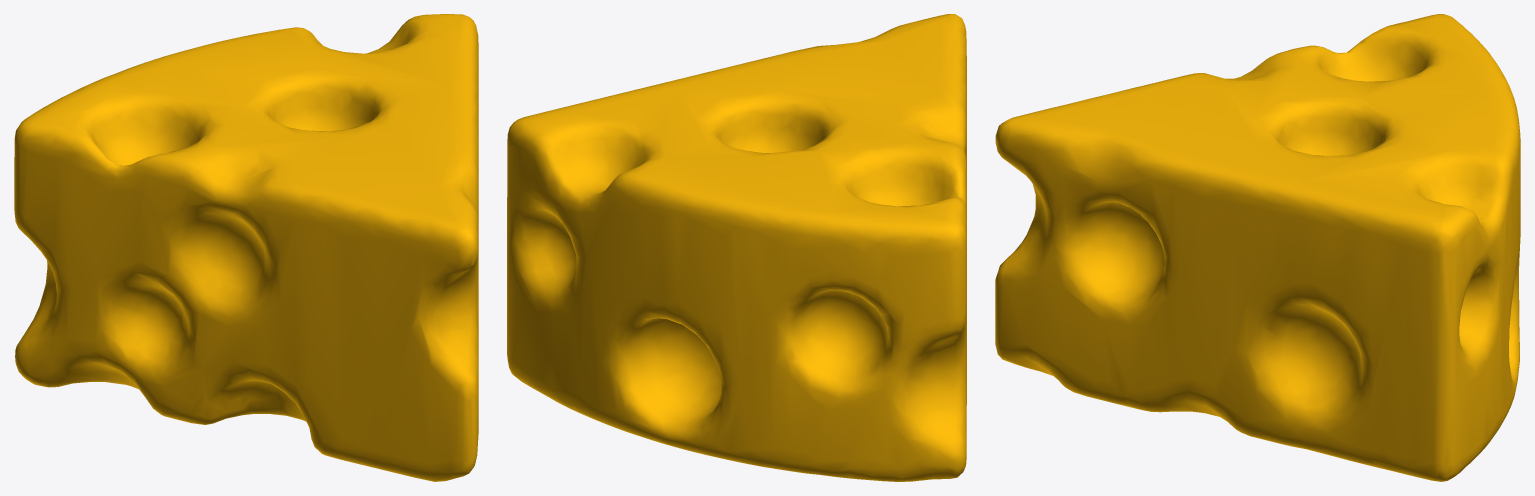
Rendered from Cheese_001-lowpoly.gltf.
3 views of the same model, side by side, from view 1: azimuth 30°, elevation 25°; view 2: azimuth 150°, elevation 25°; view 3: azimuth 270°, elevation 25° (orthographic).
Parts seen in each view (by area): view 1: Volume Mesher; view 2: Volume Mesher; view 3: Volume Mesher.
Boxes of the visible parts, x1,y1,x2,y2 form: Volume Mesher: [14, 14, 478, 481]; Volume Mesher: [507, 14, 966, 481]; Volume Mesher: [995, 14, 1520, 481].
Size of the model in its own units: 1.46 by 0.8 by 1.46.
